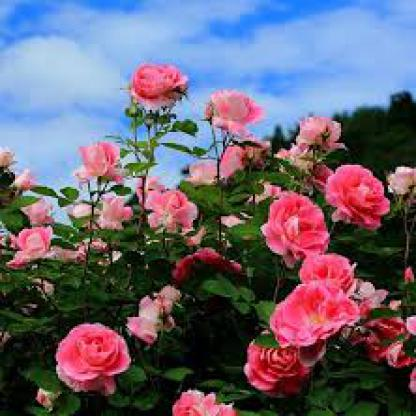Rose-Mawar: (3, 56, 415, 415)
